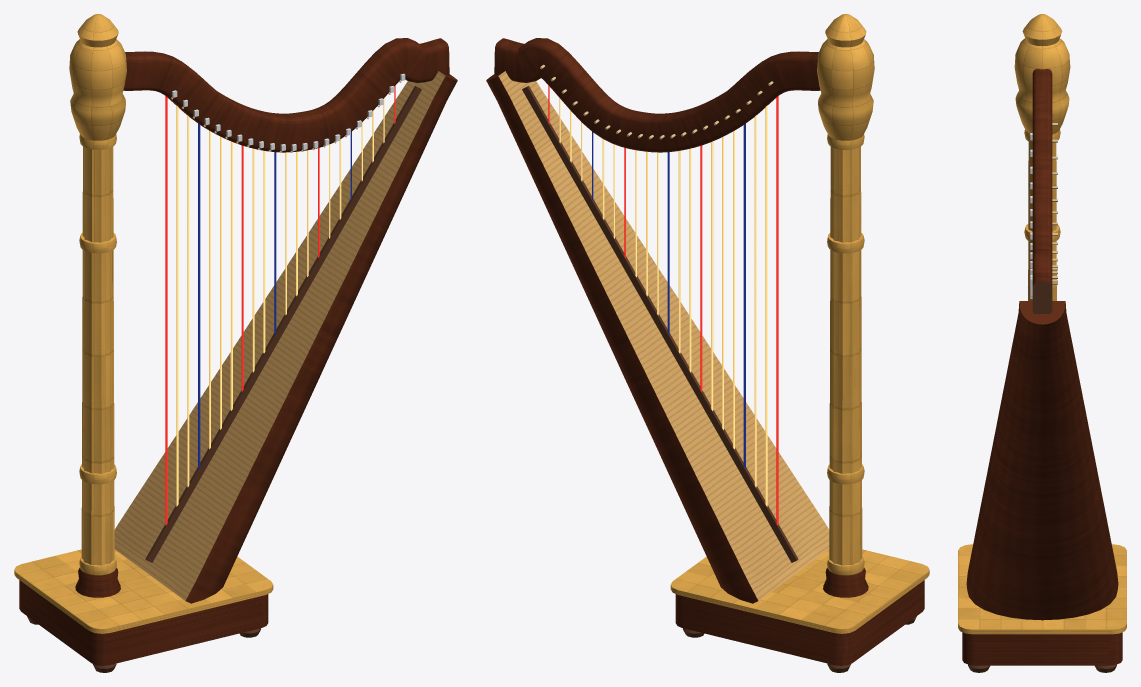
Rendered from harp.glb.
The picture shows the model from 3 angles, left to right: view 1: azimuth 30°, elevation 25°; view 2: azimuth 150°, elevation 25°; view 3: azimuth 270°, elevation 25°; orthographic projection. The views are drawn at different scales.
Parts seen in each view (by area): view 1: Harp_Body, Harp_Column, Harp_Neck, Harp_String_00_Mesh, Harp_String_01_Mesh, Harp_String_02_Mesh, Harp_String_03_Mesh, Harp_String_06_Mesh, Harp_String_07_Mesh, Harp_String_08_Mesh; view 2: Harp_Body, Harp_Column, Harp_Neck, Harp_String_00_Mesh, Harp_String_01_Mesh, Harp_String_02_Mesh, Harp_String_03_Mesh, Harp_String_06_Mesh, Harp_String_07_Mesh, Harp_String_08_Mesh; view 3: Harp_Body, Harp_Neck, Harp_Column.
Part boxes in pixels (left/top/right/bottom): Harp_Body: left=14, top=71, right=457, bottom=672; Harp_Column: left=69, top=14, right=126, bottom=597; Harp_Neck: left=123, top=38, right=449, bottom=152; Harp_String_00_Mesh: left=165, top=96, right=167, bottom=525; Harp_String_01_Mesh: left=176, top=105, right=178, bottom=506; Harp_String_02_Mesh: left=187, top=115, right=189, bottom=487; Harp_String_03_Mesh: left=198, top=123, right=200, bottom=468; Harp_String_06_Mesh: left=230, top=141, right=232, bottom=410; Harp_String_07_Mesh: left=241, top=145, right=243, bottom=391; Harp_String_08_Mesh: left=252, top=148, right=254, bottom=372; Harp_Body: left=486, top=71, right=929, bottom=672; Harp_Column: left=817, top=14, right=874, bottom=597; Harp_Neck: left=494, top=38, right=820, bottom=152; Harp_String_00_Mesh: left=776, top=96, right=778, bottom=525; Harp_String_01_Mesh: left=765, top=105, right=767, bottom=506; Harp_String_02_Mesh: left=754, top=115, right=756, bottom=487; Harp_String_03_Mesh: left=743, top=123, right=745, bottom=468; Harp_String_06_Mesh: left=711, top=141, right=713, bottom=410; Harp_String_07_Mesh: left=700, top=145, right=702, bottom=391; Harp_String_08_Mesh: left=689, top=148, right=691, bottom=372; Harp_Body: left=958, top=301, right=1126, bottom=672; Harp_Neck: left=1030, top=69, right=1057, bottom=313; Harp_Column: left=1014, top=14, right=1070, bottom=300.
Bounding box in the file's own units: 1.05 × 1.57 × 0.4.
28 materials, 3 textured.
